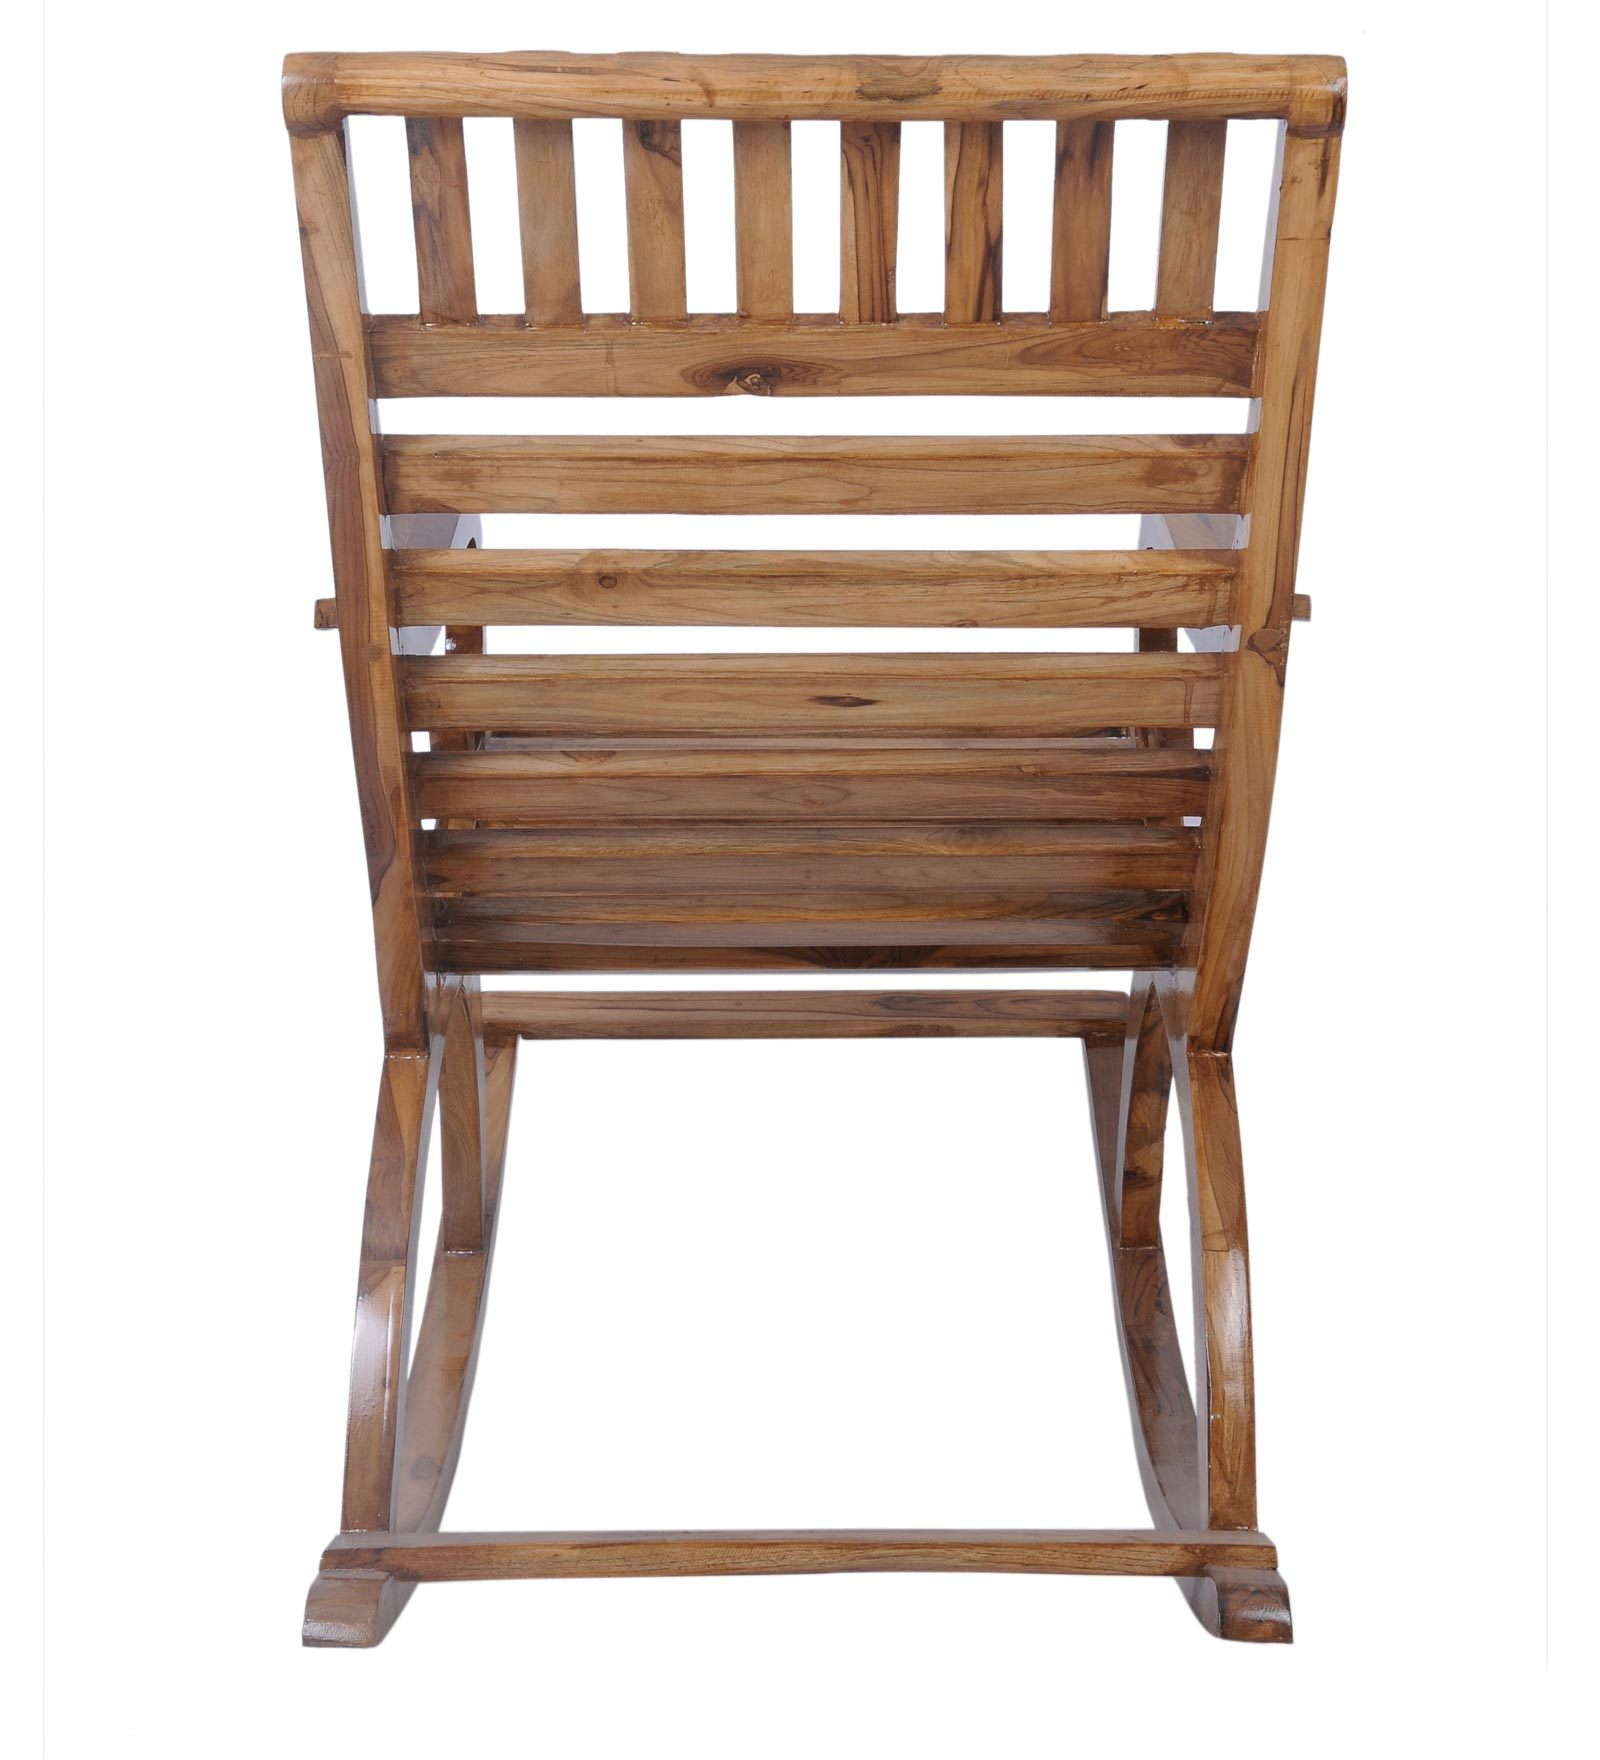Teak Wood Rocking Chair in Light Teak Finish by Karigar: (195, 28, 1484, 1696)
